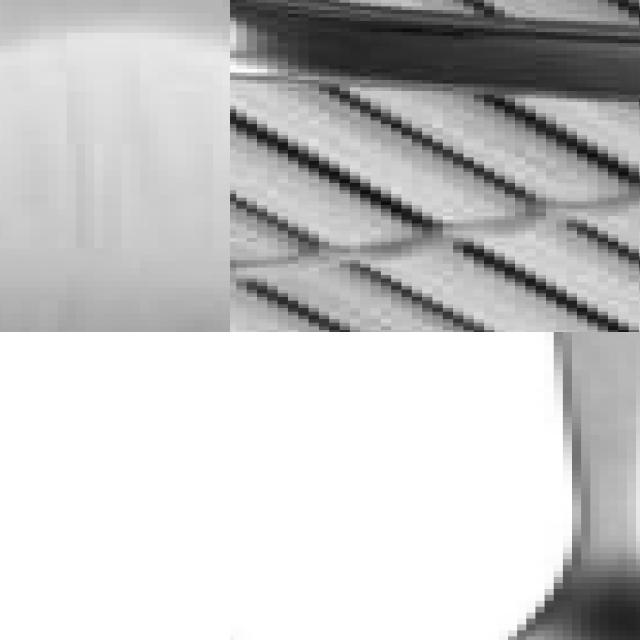spoons: (0, 0, 230, 332), (230, 542, 389, 640)
